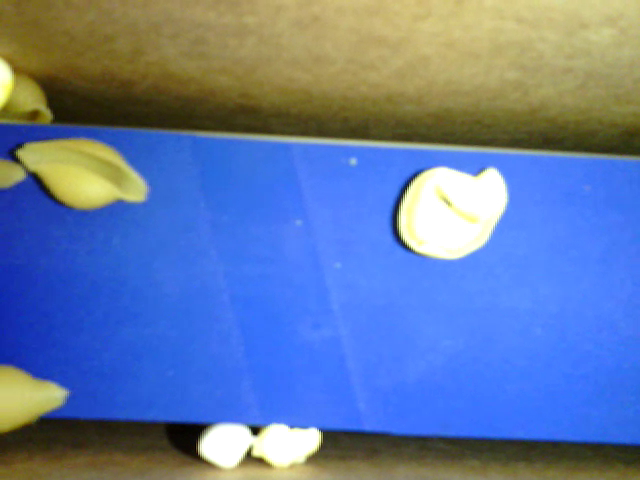shell: (16, 135, 150, 212), (1, 362, 73, 436), (1, 73, 54, 127)
tortellini: (392, 166, 508, 263)
